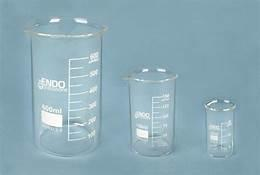Beaker: (22, 10, 111, 158), (122, 57, 182, 157), (202, 83, 241, 162)
